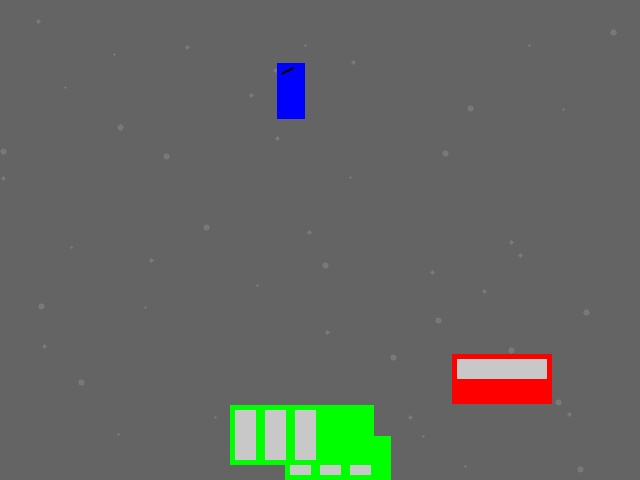bus: (230, 405, 373, 464), (285, 436, 390, 479)
car: (452, 354, 551, 403)
motorcycle: (277, 63, 304, 118)
